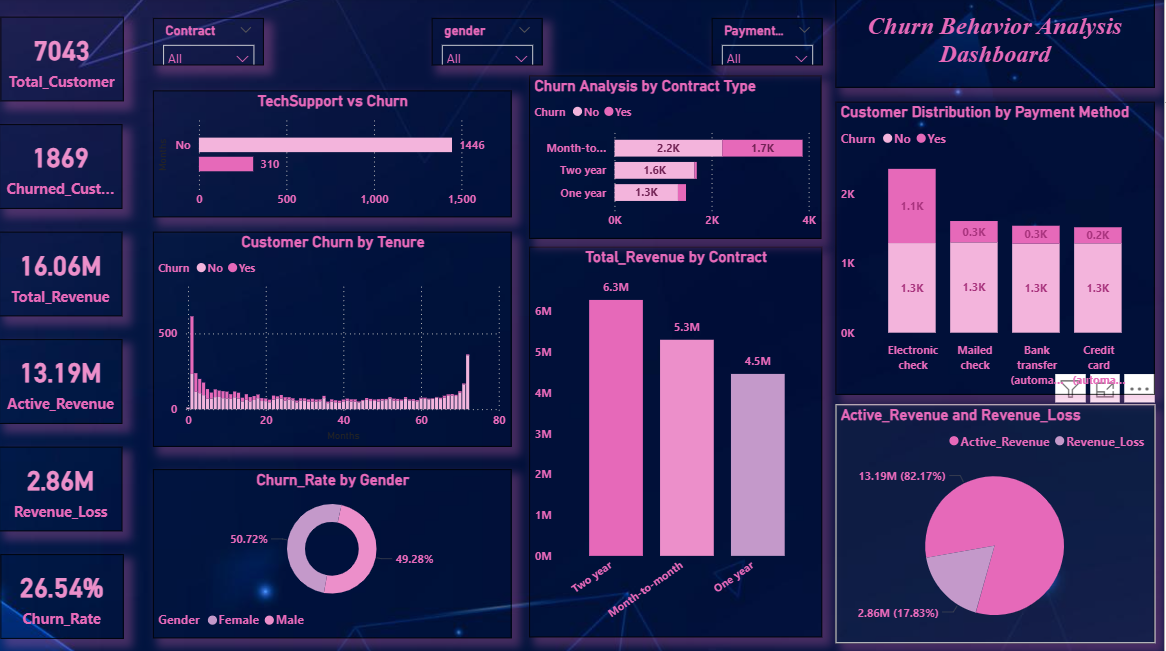

This screenshot's page, from the dashboard's own definition file:
{"tool":"powerbi","page":{"name":"Page 1","canvas":[1280,720],"ordinal":0},"visuals":[{"type":"card","fields":{"Values":["WA_Fn-UseC_-Telco-Customer-Churn.Total_Customer"]},"box":[3,20,135,93],"z":0},{"type":"card","fields":{"Values":["WA_Fn-UseC_-Telco-Customer-Churn.Total_Revenue"]},"box":[2,256,135,93],"z":1000},{"type":"card","fields":{"Values":["WA_Fn-UseC_-Telco-Customer-Churn.Revenue_Loss"]},"box":[2,492,135,93],"z":2000},{"type":"card","fields":{"Values":["WA_Fn-UseC_-Telco-Customer-Churn.Churn_Rate"]},"box":[3,610,135,93],"z":3000},{"type":"card","fields":{"Values":["WA_Fn-UseC_-Telco-Customer-Churn.Churned_Customers"]},"box":[2,138,135,93],"z":4000},{"type":"card","fields":{"Values":["WA_Fn-UseC_-Telco-Customer-Churn.Active_Revenue"]},"box":[2,374,135,93],"z":5000},{"type":"donutChart","fields":{"Category":["WA_Fn-UseC_-Telco-Customer-Churn.gender"],"Y":["WA_Fn-UseC_-Telco-Customer-Churn.Churn_Rate"]},"box":[170,516.7,393.3,185.6],"z":6000},{"type":"barChart","title":"TechSupport vs Churn","fields":{"Category":["WA_Fn-UseC_-Telco-Customer-Churn.TechSupport"],"Y":["CountNonNull(WA_Fn-UseC_-Telco-Customer-Churn.customerID)"]},"box":[170,102.2,393.3,138.9],"z":7000},{"type":"clusteredColumnChart","fields":{"Category":["WA_Fn-UseC_-Telco-Customer-Churn.Contract"],"Y":["WA_Fn-UseC_-Telco-Customer-Churn.Total_Revenue"]},"box":[583.8,273.8,321.2,428.8],"z":8000},{"type":"pieChart","fields":{"Y":["WA_Fn-UseC_-Telco-Customer-Churn.Active_Revenue","WA_Fn-UseC_-Telco-Customer-Churn.Revenue_Loss"]},"box":[920,445.6,350,262.2],"z":9000},{"type":"columnChart","title":"Customer Distribution by Payment Method","fields":{"Category":["WA_Fn-UseC_-Telco-Customer-Churn.PaymentMethod"],"Y":["CountNonNull(WA_Fn-UseC_-Telco-Customer-Churn.customerID)"],"Series":["WA_Fn-UseC_-Telco-Customer-Churn.Churn"]},"box":[920,113.3,350,321.7],"z":10000},{"type":"barChart","title":"Churn Analysis by Contract Type","fields":{"Y":["CountNonNull(WA_Fn-UseC_-Telco-Customer-Churn.customerID)"],"Category":["WA_Fn-UseC_-Telco-Customer-Churn.Contract"],"Series":["WA_Fn-UseC_-Telco-Customer-Churn.Churn"]},"box":[583.3,85.6,321.1,178.9],"z":11000},{"type":"slicer","fields":{"Values":["WA_Fn-UseC_-Telco-Customer-Churn.gender"]},"box":[476.7,21.7,121.7,51.7],"z":12000},{"type":"textbox","box":[920,0,350,98.3],"z":13000},{"type":"slicer","fields":{"Values":["WA_Fn-UseC_-Telco-Customer-Churn.Contract"]},"box":[170,21.7,121.7,51.7],"z":14000},{"type":"slicer","fields":{"Values":["WA_Fn-UseC_-Telco-Customer-Churn.PaymentMethod"]},"box":[783.3,21.7,121.7,51.7],"z":15000},{"type":"columnChart","title":"Customer Churn by Tenure","fields":{"Category":["WA_Fn-UseC_-Telco-Customer-Churn.tenure"],"Y":["CountNonNull(WA_Fn-UseC_-Telco-Customer-Churn.customerID)"],"Series":["WA_Fn-UseC_-Telco-Customer-Churn.Churn"]},"box":[170.2,256.6,393.8,236],"z":16000}]}

Visuals, with their boxes in screenshot pixels (x1, y1, x2, y2), scaled from the page's 1280x720 canvas onto the 1166x651 screenshot:
card - WA_Fn-UseC_-Telco-Customer-Churn.Total_Customer: 3/18/126/102
card - WA_Fn-UseC_-Telco-Customer-Churn.Total_Revenue: 2/231/125/316
card - WA_Fn-UseC_-Telco-Customer-Churn.Revenue_Loss: 2/445/125/529
card - WA_Fn-UseC_-Telco-Customer-Churn.Churn_Rate: 3/552/126/636
card - WA_Fn-UseC_-Telco-Customer-Churn.Churned_Customers: 2/125/125/209
card - WA_Fn-UseC_-Telco-Customer-Churn.Active_Revenue: 2/338/125/422
donutChart - WA_Fn-UseC_-Telco-Customer-Churn.gender x WA_Fn-UseC_-Telco-Customer-Churn.Churn_Rate: 155/467/513/635
"TechSupport vs Churn" barChart: 155/92/513/218
clusteredColumnChart - WA_Fn-UseC_-Telco-Customer-Churn.Contract x WA_Fn-UseC_-Telco-Customer-Churn.Total_Revenue: 532/248/824/635
pieChart - WA_Fn-UseC_-Telco-Customer-Churn.Active_Revenue x WA_Fn-UseC_-Telco-Customer-Churn.Revenue_Loss: 838/403/1157/640
"Customer Distribution by Payment Method" columnChart: 838/102/1157/393
"Churn Analysis by Contract Type" barChart: 531/77/824/239
slicer - WA_Fn-UseC_-Telco-Customer-Churn.gender: 434/20/545/66
textbox: 838/0/1157/89
slicer - WA_Fn-UseC_-Telco-Customer-Churn.Contract: 155/20/266/66
slicer - WA_Fn-UseC_-Telco-Customer-Churn.PaymentMethod: 714/20/824/66
"Customer Churn by Tenure" columnChart: 155/232/514/445
